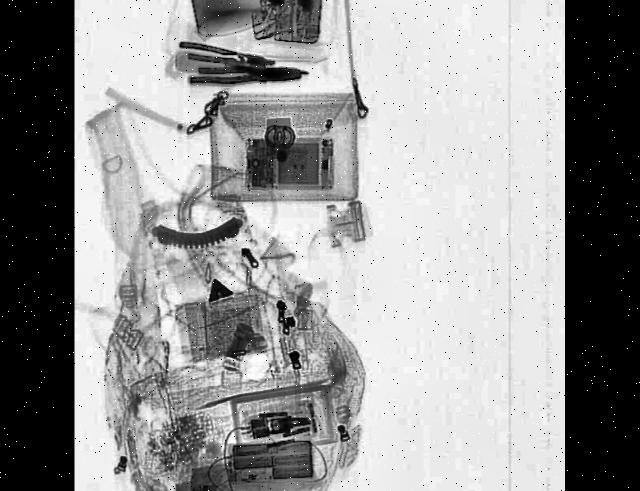Pliers: (190, 63, 302, 84)
